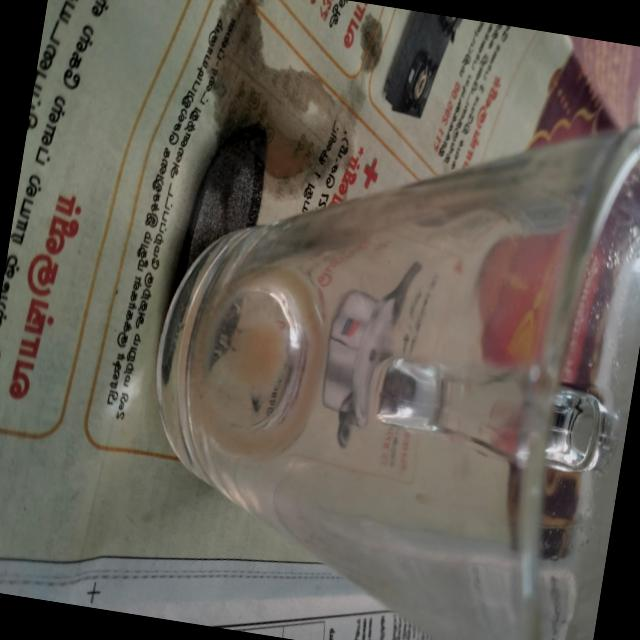glass-VX4N: (112, 54, 640, 640)
